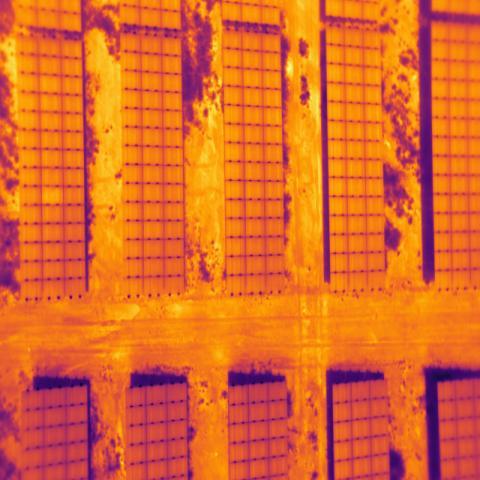fault: (42, 186, 64, 205)
